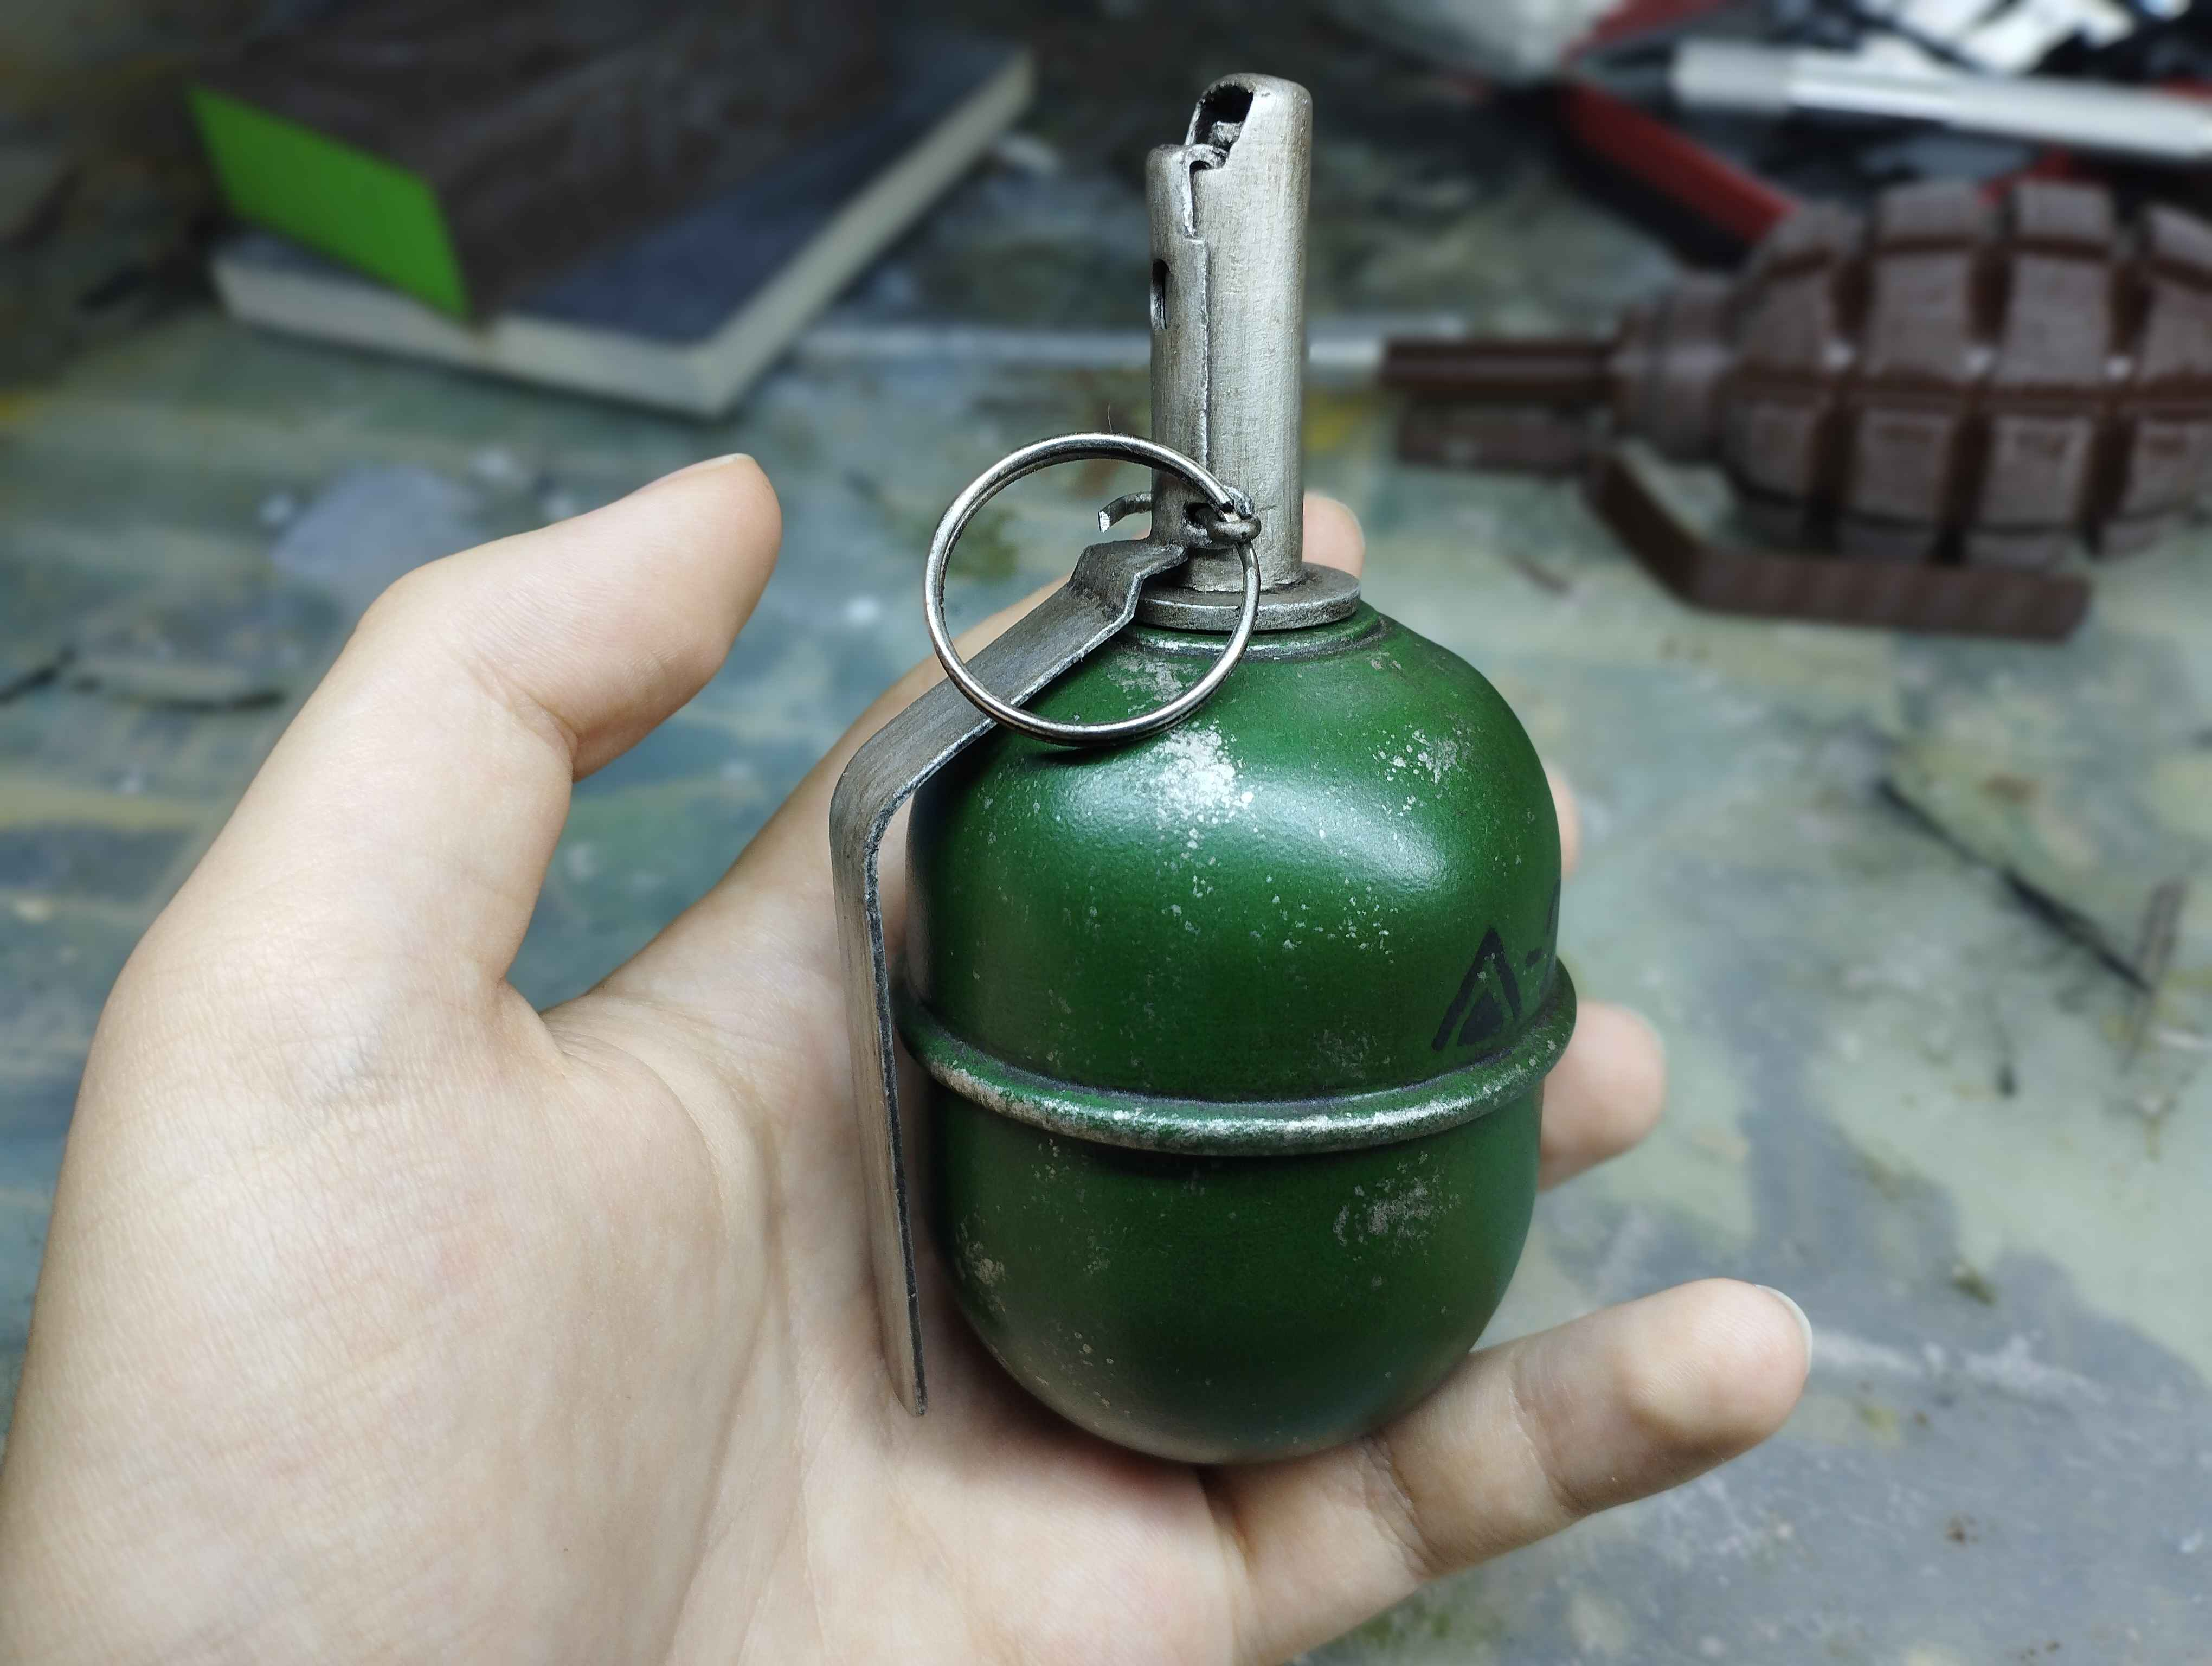RGD 5: (837, 69, 1572, 1485)
